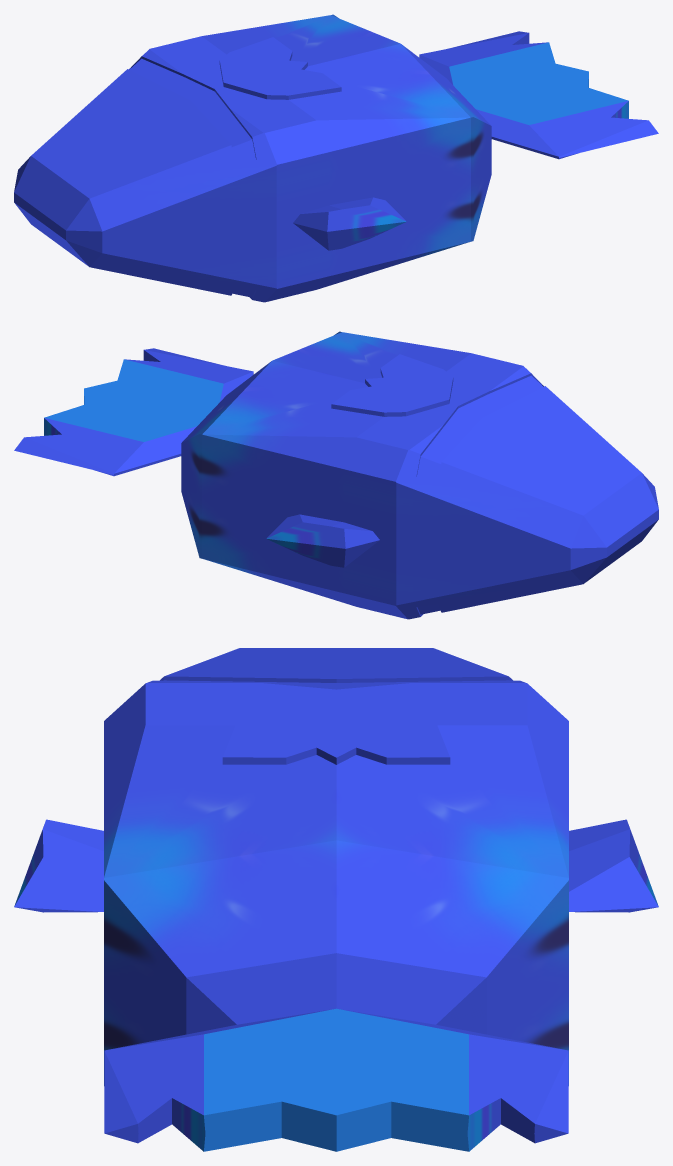
Rendered from Fish blend.fbx.
3 renders of one model, top to bottom at view 1: azimuth 30°, elevation 25°; view 2: azimuth 150°, elevation 25°; view 3: azimuth 270°, elevation 25°, orthographic. The views are drawn at different scales.
Visible parts, largest first — view 1: Cube; view 2: Cube; view 3: Cube.
Boxes of the visible parts, x1,y1,x2,y2 form: Cube: [14, 14, 658, 302]; Cube: [14, 331, 658, 619]; Cube: [14, 648, 658, 1151].
Size of the model in its own units: 113 by 35.09 by 69.34.
Materials: 1 (1 with a texture image).
